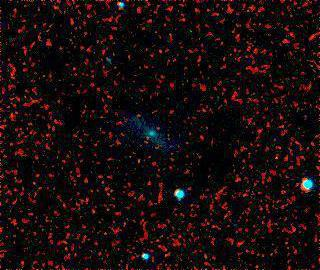star: (229, 229, 259, 259)
